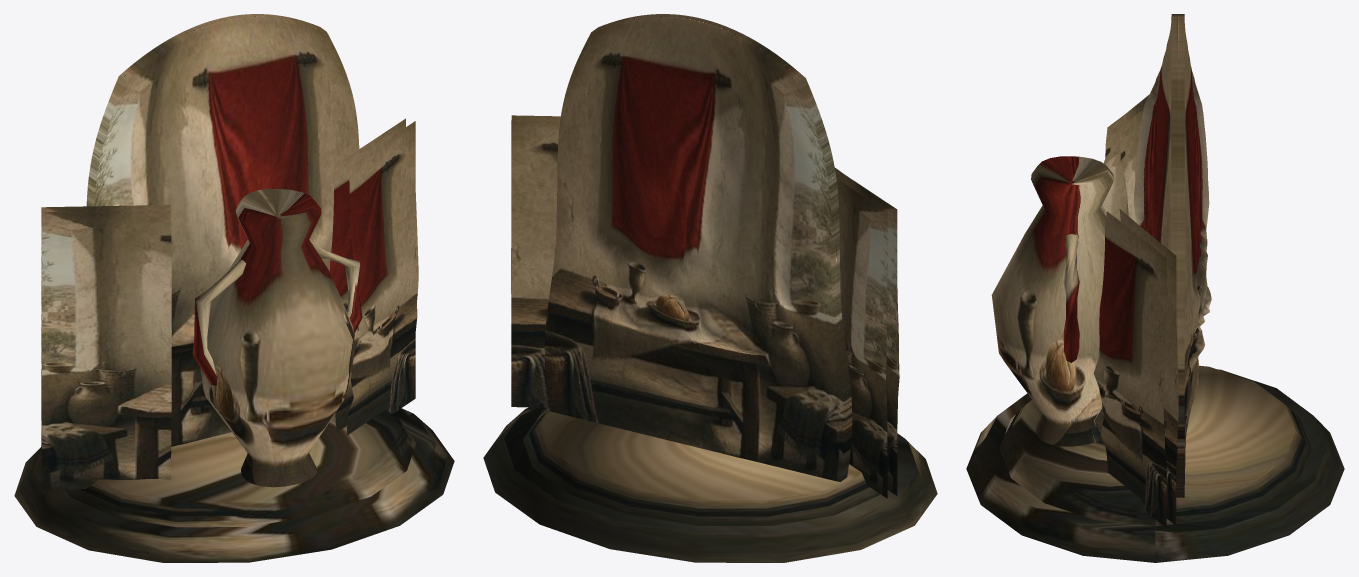
File: many-waters-5.glb
The picture shows the model from 3 angles, left to right: view 1: azimuth 30°, elevation 25°; view 2: azimuth 150°, elevation 25°; view 3: azimuth 270°, elevation 25°; orthographic projection. The views are drawn at different scales.
Visible parts, largest first — view 1: PaintingSculptureMonument; view 2: PaintingSculptureMonument; view 3: PaintingSculptureMonument.
Part boxes in pixels (x1,y1,x2,y2): PaintingSculptureMonument: (14,14,454,562); PaintingSculptureMonument: (483,14,937,562); PaintingSculptureMonument: (966,14,1344,562).
Bounding box in the file's own units: 2.76 × 2.99 × 2.35.
1 material, 1 textured.
